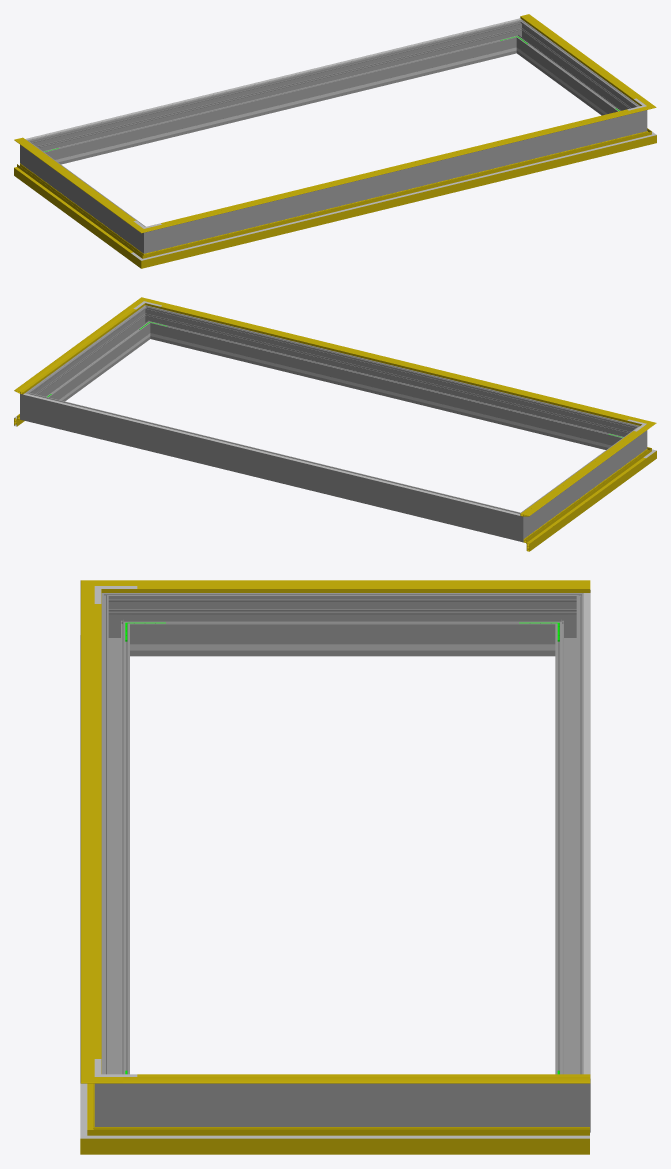
The picture shows the model from 3 angles, top to bottom: view 1: azimuth 30°, elevation 25°; view 2: azimuth 150°, elevation 25°; view 3: azimuth 270°, elevation 25°; orthographic projection. The views are drawn at different scales.
Parts seen in each view (by area): view 1: 3DGeom-278, 3DGeom-300, 3DGeom-90, 3DGeom-299, 3DGeom-270, 3DGeom-141, 3DGeom-85, 3DGeom-246, 3DGeom-222, 3DGeom-100, 3DGeom-158, 3DGeom-145 (+8 smaller); view 2: 3DGeom-300, 3DGeom-278, 3DGeom-299, 3DGeom-141, 3DGeom-270, 3DGeom-85, 3DGeom-241, 3DGeom-222, 3DGeom-145, 3DGeom-158, 3DGeom-147, 3DGeom-280 (+5 smaller); view 3: 3DGeom-270, 3DGeom-299, 3DGeom-278, 3DGeom-300, 3DGeom-97, 3DGeom-141, 3DGeom-147, 3DGeom-222, 3DGeom-158, 3DGeom-145, 3DGeom-234, 3DGeom-286 (+7 smaller).
Part boxes in pixels (left/top/right/bottom): 3DGeom-278: left=40, top=23, right=513, bottom=164; 3DGeom-300: left=162, top=114, right=628, bottom=249; 3DGeom-90: left=156, top=134, right=638, bottom=264; 3DGeom-299: left=518, top=26, right=633, bottom=115; 3DGeom-270: left=30, top=146, right=138, bottom=245; 3DGeom-141: left=157, top=109, right=637, bottom=228; 3DGeom-85: left=14, top=163, right=136, bottom=260; 3DGeom-246: left=62, top=51, right=498, bottom=161; 3DGeom-222: left=25, top=18, right=521, bottom=139; 3DGeom-100: left=158, top=138, right=637, bottom=256; 3DGeom-158: left=161, top=109, right=628, bottom=224; 3DGeom-145: left=520, top=14, right=645, bottom=103; 3DGeom-300: left=153, top=309, right=626, bottom=449; 3DGeom-278: left=38, top=396, right=508, bottom=537; 3DGeom-299: left=33, top=311, right=148, bottom=401; 3DGeom-141: left=154, top=302, right=637, bottom=423; 3DGeom-270: left=528, top=432, right=636, bottom=531; 3DGeom-85: left=523, top=454, right=646, bottom=551; 3DGeom-241: left=168, top=337, right=605, bottom=446; 3DGeom-222: left=23, top=393, right=520, bottom=515; 3DGeom-145: left=14, top=305, right=139, bottom=394; 3DGeom-158: left=161, top=305, right=628, bottom=420; 3DGeom-147: left=520, top=429, right=645, bottom=516; 3DGeom-280: left=505, top=507, right=533, bottom=542; 3DGeom-270: left=137, top=593, right=547, bottom=656; 3DGeom-299: left=137, top=1083, right=547, bottom=1126; 3DGeom-278: left=555, top=608, right=583, bottom=1074; 3DGeom-300: left=101, top=608, right=129, bottom=1074; 3DGeom-97: left=123, top=1127, right=589, bottom=1154; 3DGeom-141: left=80, top=598, right=101, bottom=1064; 3DGeom-147: left=123, top=580, right=590, bottom=592; 3DGeom-222: left=583, top=593, right=590, bottom=1078; 3DGeom-158: left=94, top=604, right=101, bottom=1058; 3DGeom-145: left=123, top=1077, right=590, bottom=1083; 3DGeom-234: left=171, top=644, right=514, bottom=650; 3DGeom-286: left=548, top=1063, right=590, bottom=1132.
Size of the model in its own units: 4.27 by 0.2829 by 1.83.
